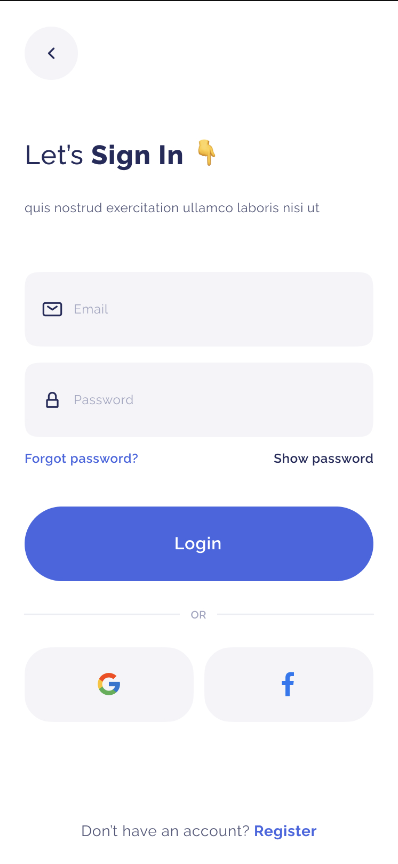Button: (23, 504, 375, 583)
